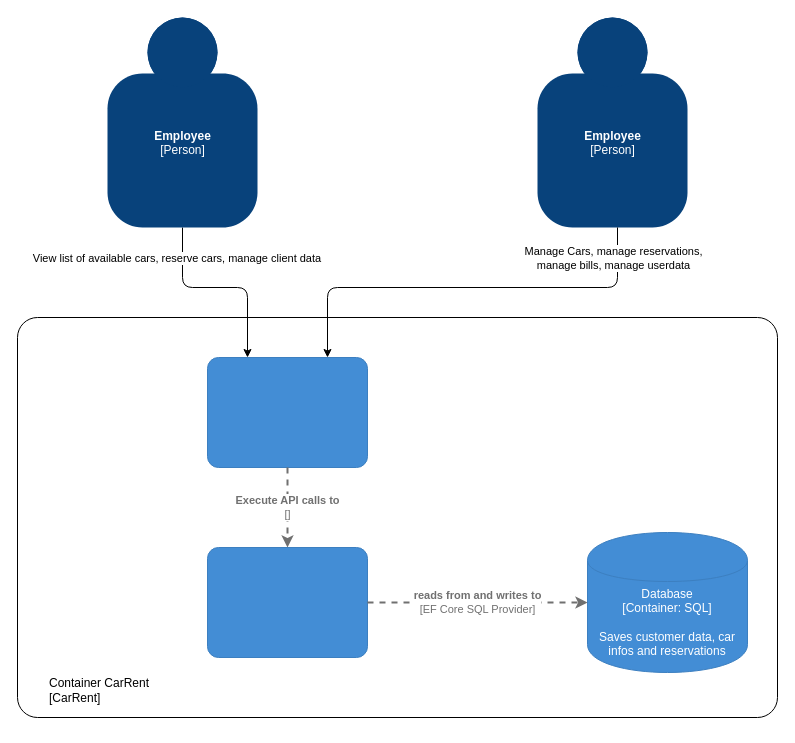
Some shapes in this 795 by 743 pixel diagram are drawn without their labels. The centre of each missing label's shape, as x and y in pixels:
"Backend Application API [Container: C#] Microservice" goes at (287,602).
"IIS Windows [Container: WebServer]" goes at (287,412).
